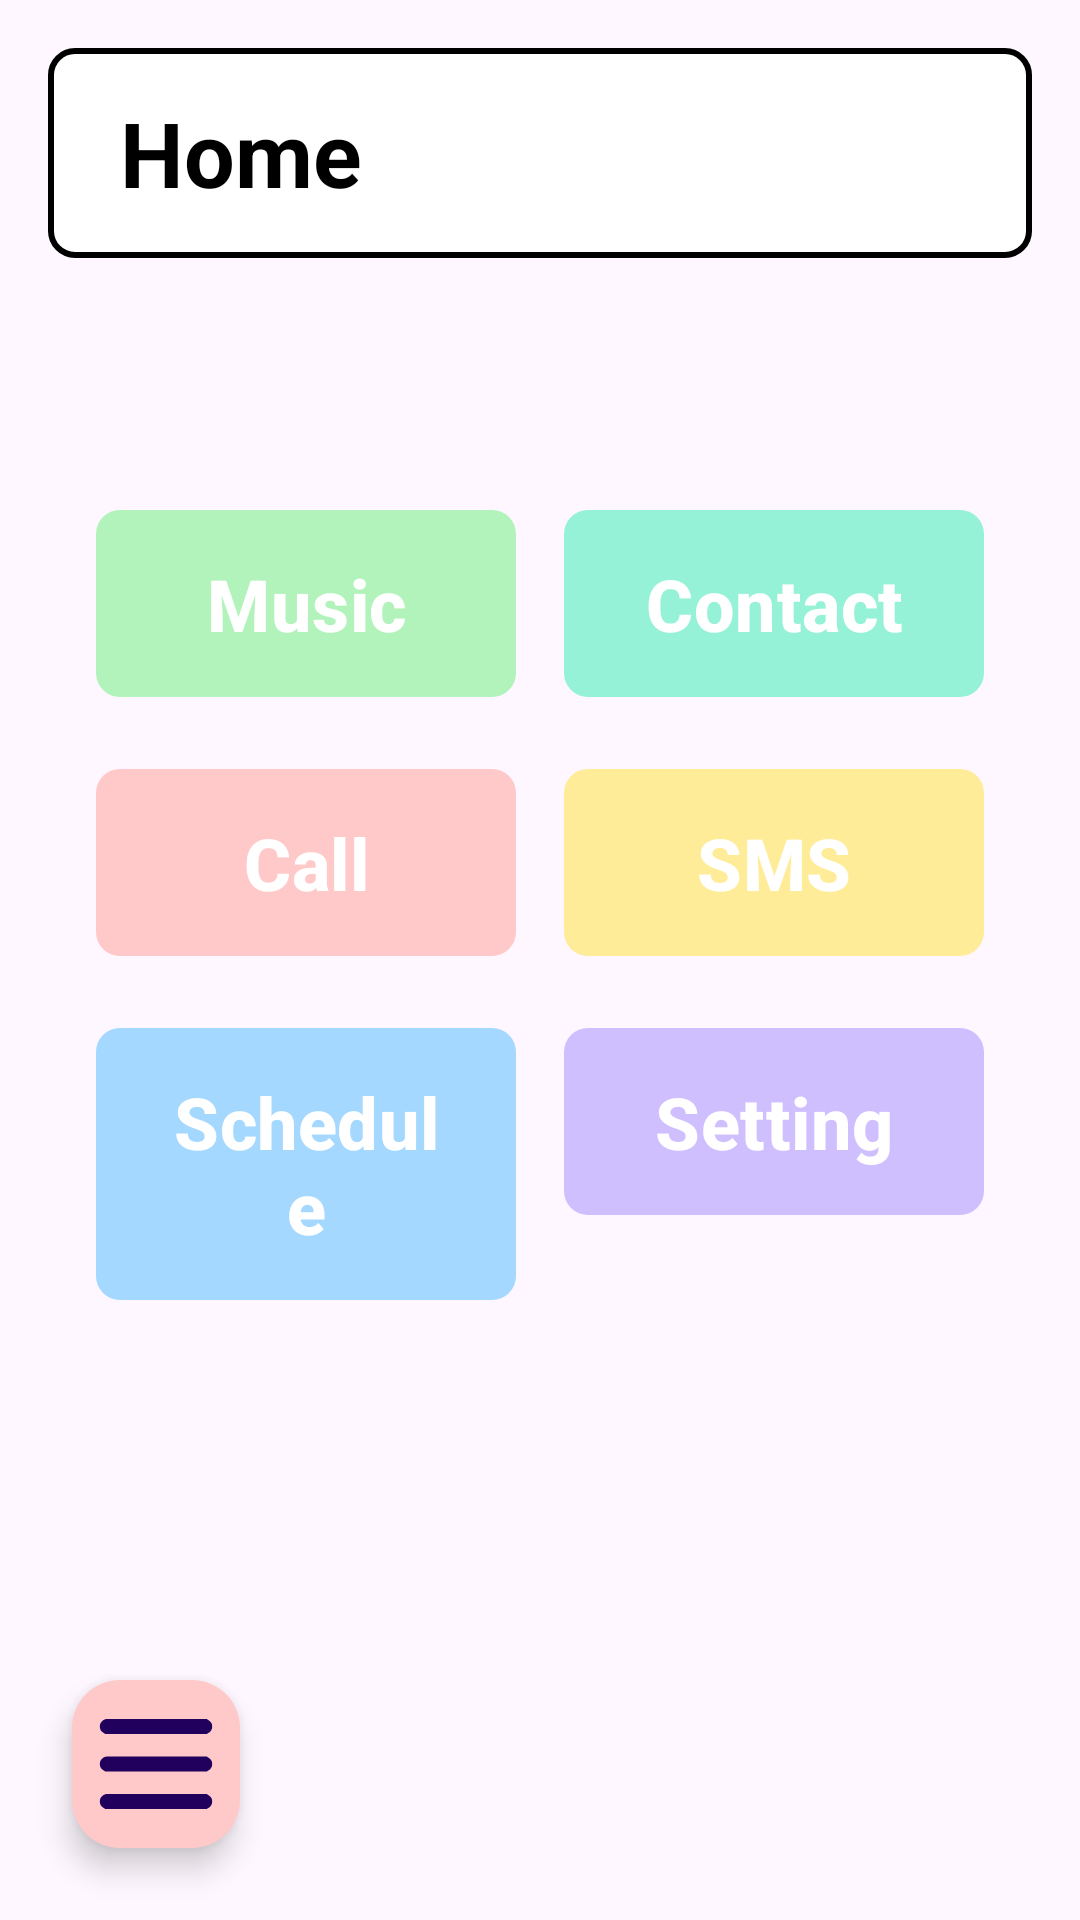

Screen size 1080px×1920px. Icon name, then its box in pixels as bbox=(x1, y1, x2, y2):
menu: bbox=(72, 1680, 240, 1848)
